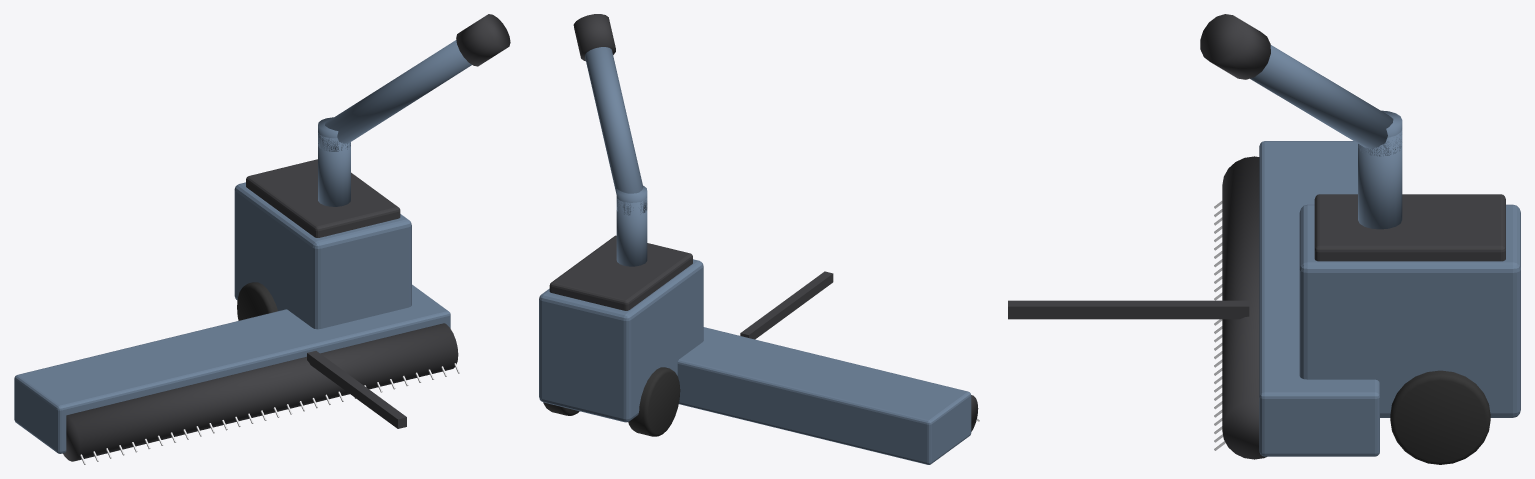
File: Harvester.fbx
3 views of the same model, side by side, from view 1: azimuth 30°, elevation 25°; view 2: azimuth 150°, elevation 25°; view 3: azimuth 270°, elevation 25° (orthographic). The views are drawn at different scales.
Visible parts, largest first — view 1: Header, Reel, Body, BodyTop, Spout, SpoutBase, SpoutHood, Tongue, Wheel1.2, SpoutElbow; view 2: Header, Body, BodyTop, Spout, Wheel1.2, SpoutBase, Tongue, SpoutHood, SpoutElbow; view 3: Body, Header, BodyTop, Reel, Wheel2.6, Spout, Tongue, SpoutBase, SpoutHood.
Part boxes in pixels (x1=…): Header: x1=14, y1=284, x2=450, y2=453; Reel: x1=63, y1=323, x2=458, y2=461; Body: x1=234, y1=182, x2=411, y2=329; BodyTop: x1=246, y1=159, x2=400, y2=237; Spout: x1=325, y1=40, x2=471, y2=143; SpoutBase: x1=318, y1=132, x2=350, y2=206; SpoutHood: x1=456, y1=14, x2=510, y2=66; Tongue: x1=307, y1=351, x2=406, y2=428; Wheel1.2: x1=237, y1=282, x2=277, y2=320; SpoutElbow: x1=318, y1=117, x2=350, y2=151; Header: x1=677, y1=327, x2=971, y2=464; Body: x1=539, y1=259, x2=703, y2=422; BodyTop: x1=549, y1=235, x2=692, y2=310; Spout: x1=585, y1=47, x2=643, y2=194; Wheel1.2: x1=628, y1=367, x2=680, y2=436; SpoutBase: x1=616, y1=198, x2=647, y2=266; Tongue: x1=740, y1=271, x2=833, y2=339; SpoutHood: x1=573, y1=14, x2=615, y2=61; SpoutElbow: x1=616, y1=185, x2=647, y2=215; Body: x1=1299, y1=204, x2=1520, y2=417; Header: x1=1259, y1=141, x2=1379, y2=456; BodyTop: x1=1314, y1=194, x2=1505, y2=261; Reel: x1=1222, y1=156, x2=1266, y2=459; Wheel2.6: x1=1390, y1=370, x2=1490, y2=464; Spout: x1=1250, y1=45, x2=1393, y2=148; Tongue: x1=1008, y1=300, x2=1249, y2=319; SpoutBase: x1=1358, y1=129, x2=1402, y2=229; SpoutHood: x1=1200, y1=14, x2=1270, y2=79.
Bounding box in the file's own units: 6.69 × 5.23 × 5.1.
